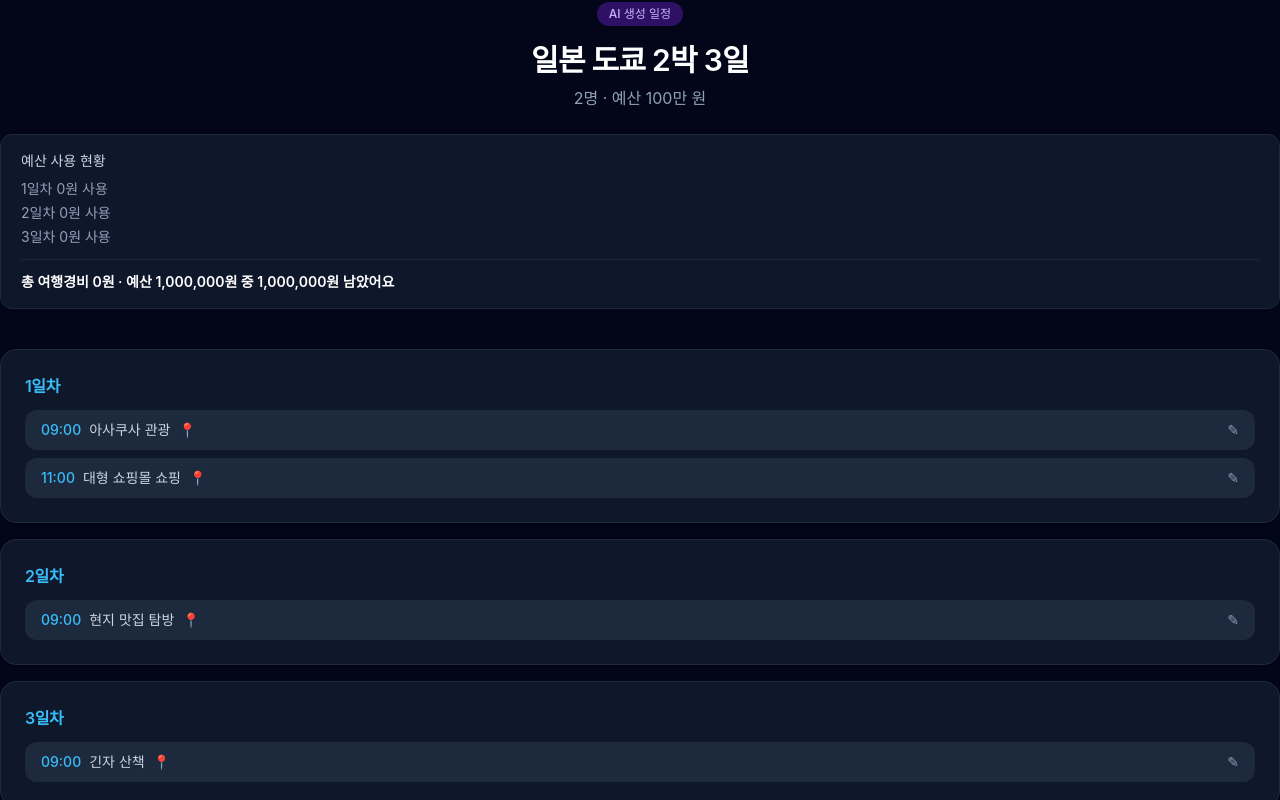
ItineraryResult › shows an editable text field pre-filled with the activity when the edit button is clicked
The width and height of the screenshot is (1280, 800).
Click the button named "아사쿠사 관광 직접 수정": click(1233, 430) top-left (1227, 420), bottom-right (1239, 440)
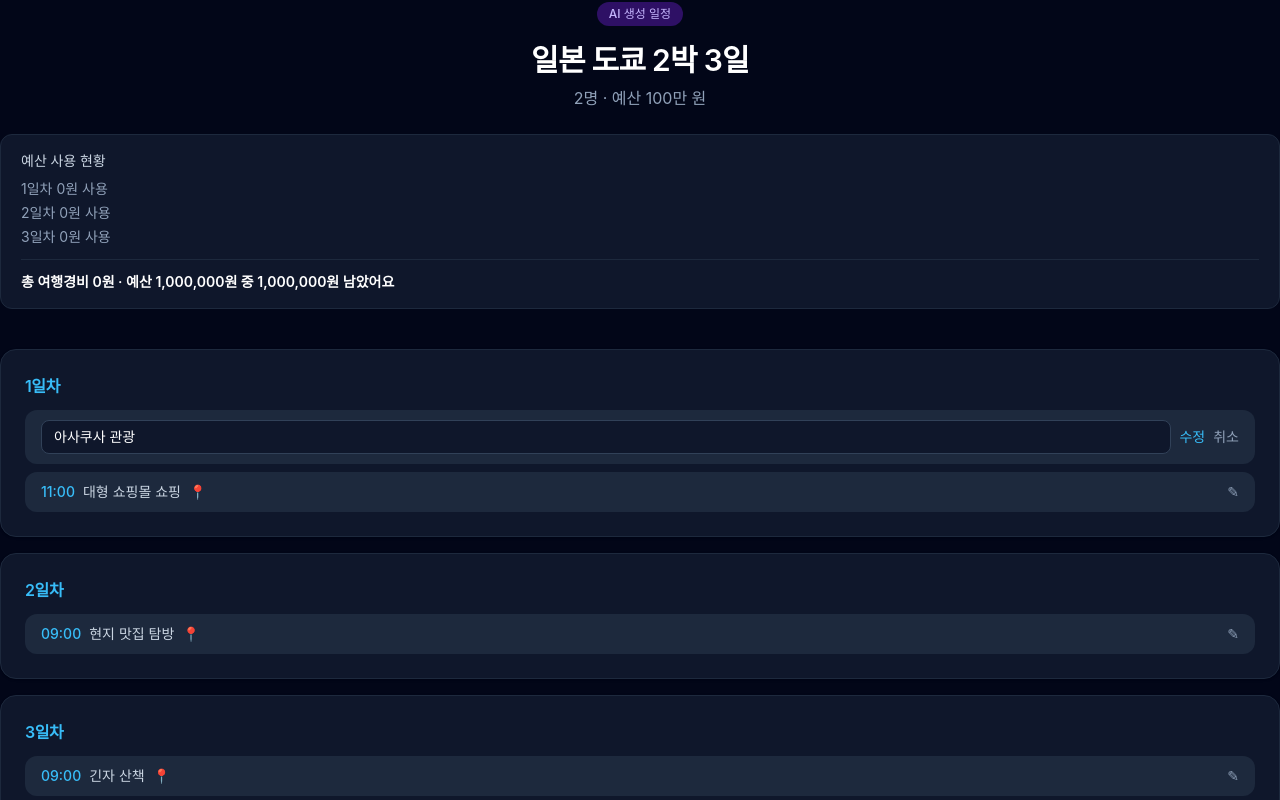
Expected: the field named "아사쿠사 관광 수정 입력" holds "아사쿠사 관광", top-left (41, 420), bottom-right (1172, 454)
